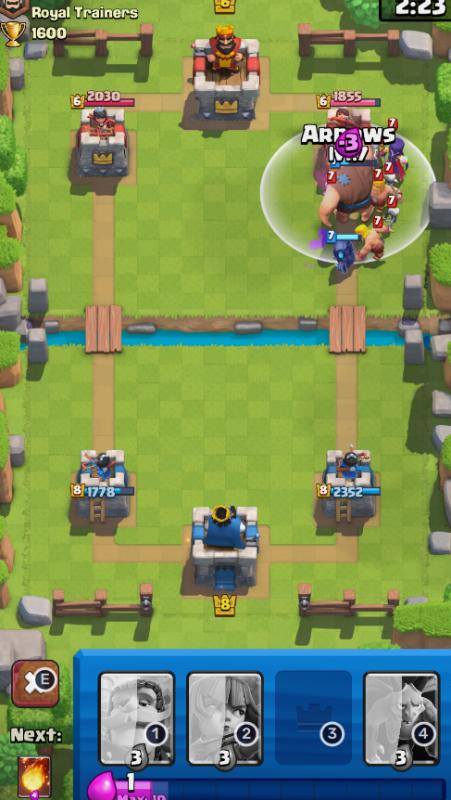geant: (312, 161, 382, 227)
mini_PEKKA: (318, 233, 363, 278)
squelette: (376, 166, 408, 195), (379, 202, 404, 235)
